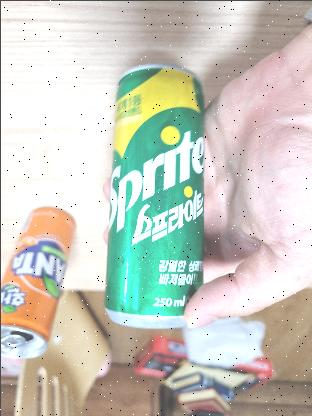Can: (105, 59, 199, 317)
